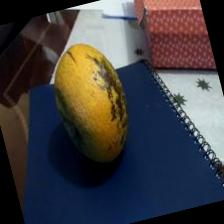Orange Rotten: (35, 20, 149, 179)
